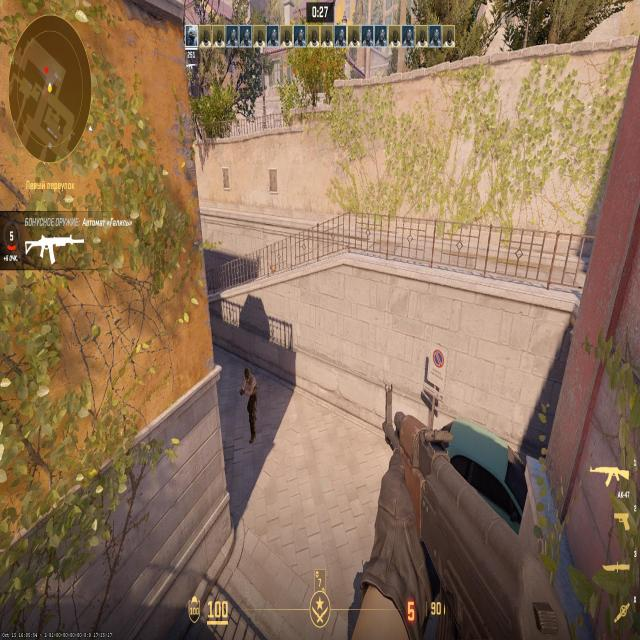T: (242, 371, 260, 426)
T_heat: (246, 375, 254, 385)
